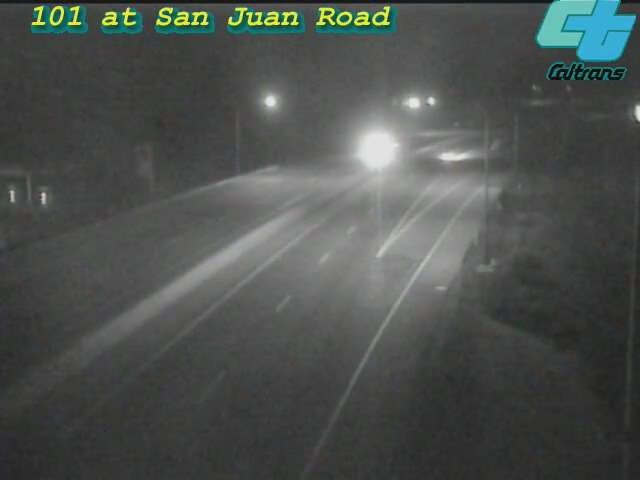vehicle: (354, 124, 404, 174), (419, 132, 469, 182)
